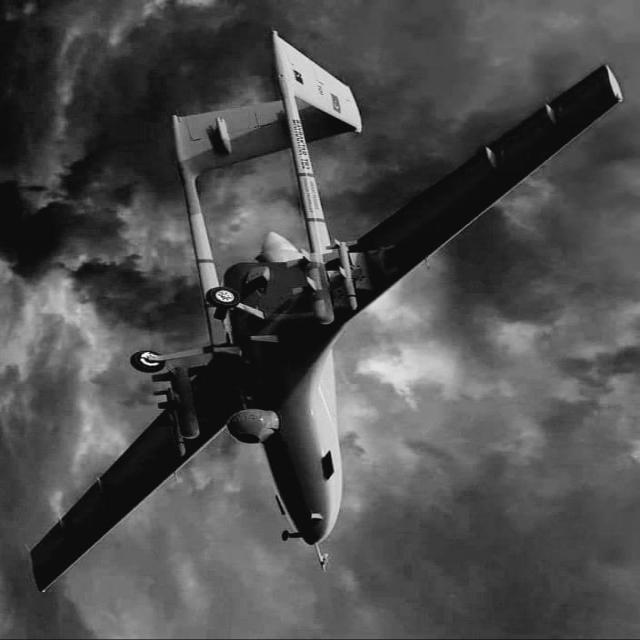iha: (23, 2, 621, 589)
